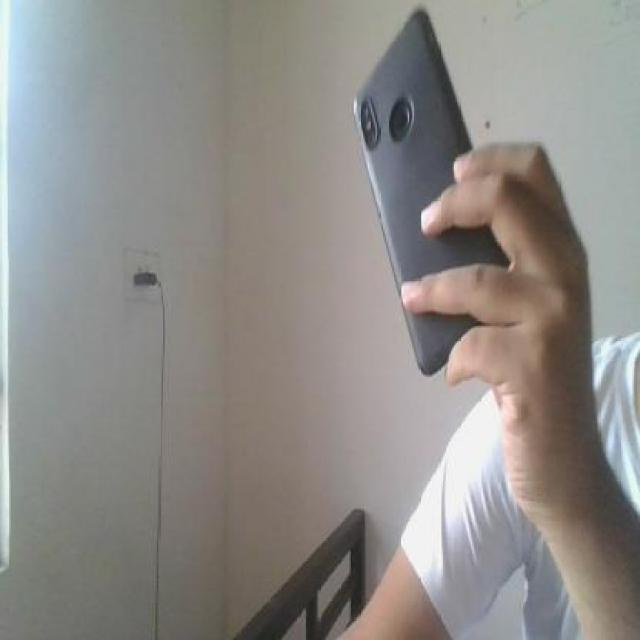Phone: (351, 4, 505, 375)
